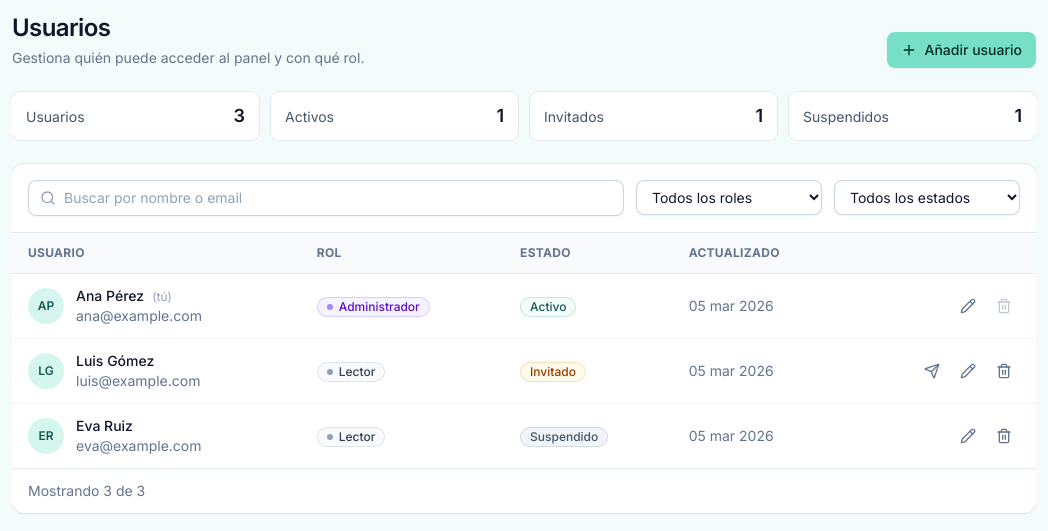
Test case: UsersView › filtra por nombre o email
Type "luis@" into the field named "Buscar usuarios" at {"x": 326, "y": 198}, box x1=28 y1=180 x2=624 y2=216
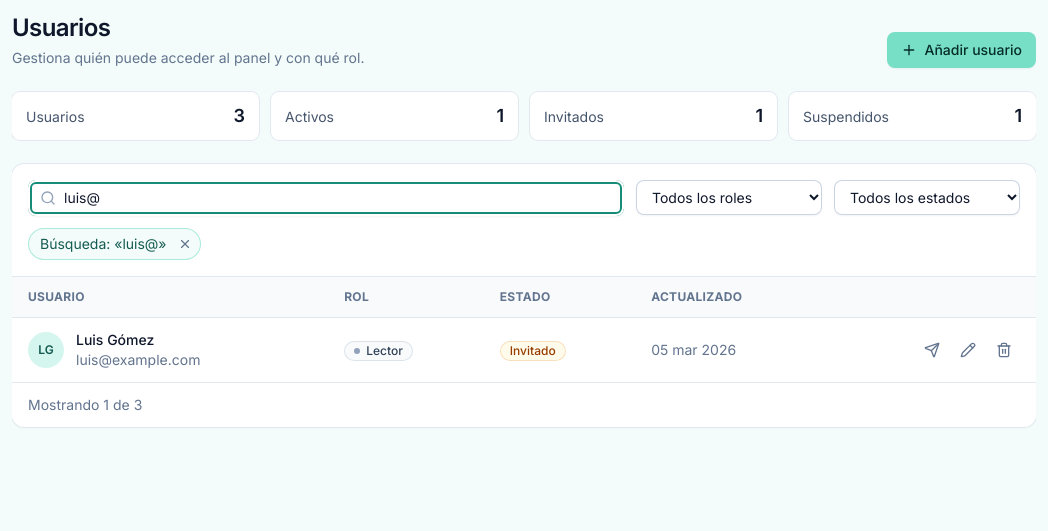
Check: the text "Luis Gómez" is shown, box x1=76 y1=331 x2=154 y2=348
Check: the text "Ana Pérez" is gone
Check: the text "Mostrando 1 de 3" is shown, box x1=12 y1=382 x2=1036 y2=427
